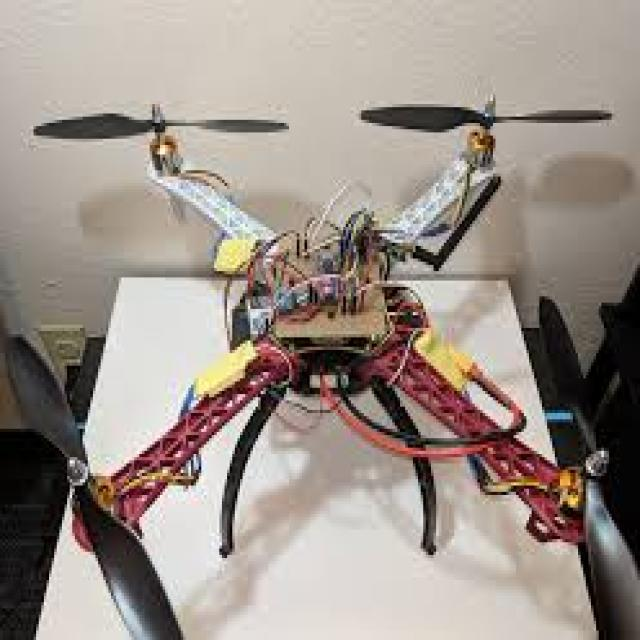drone: (17, 58, 640, 628)
